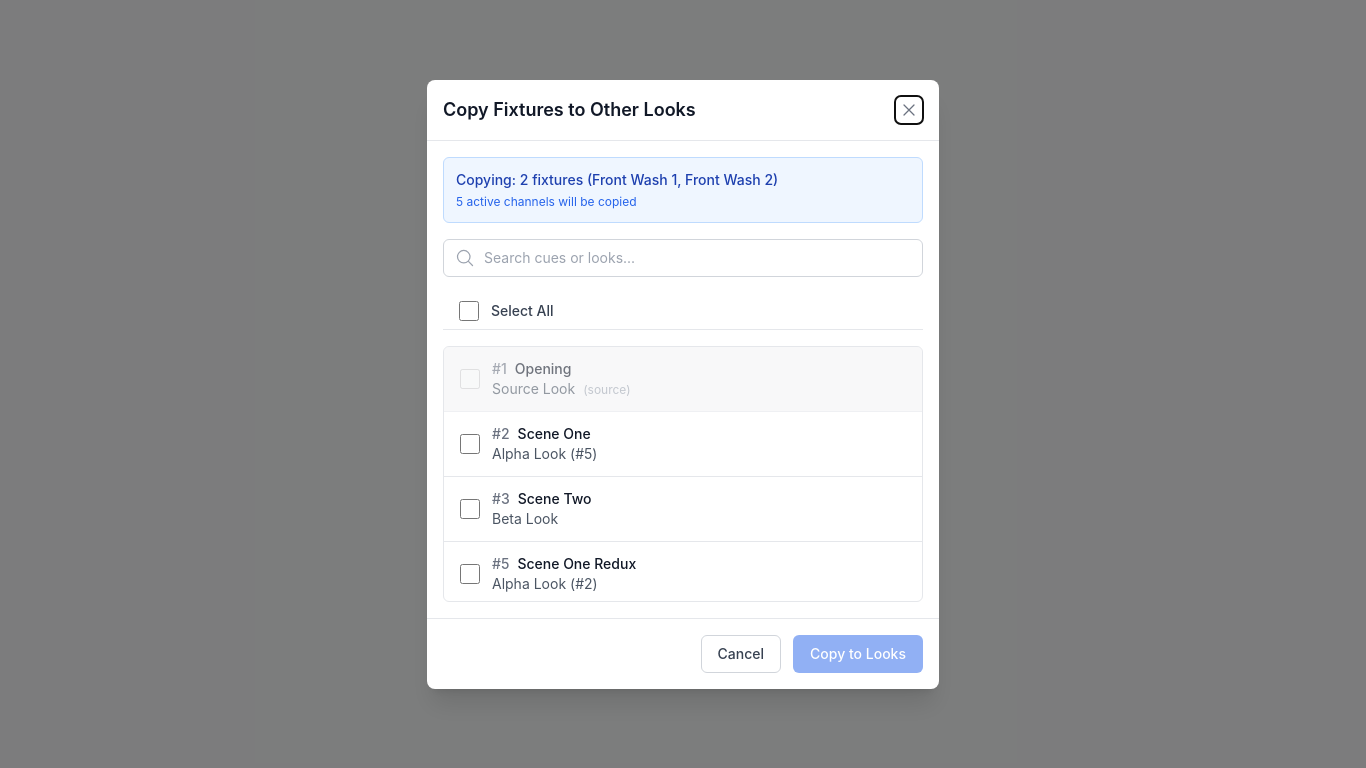
CopyFixturesToLooksModal › selection behavior › shows affected cue count in cue-centric mode
# Select Alpha Look (used by cues 2 and 5)
Click the text "Scene One" at point(554, 434), box top-left (518, 424), bottom-right (591, 444)
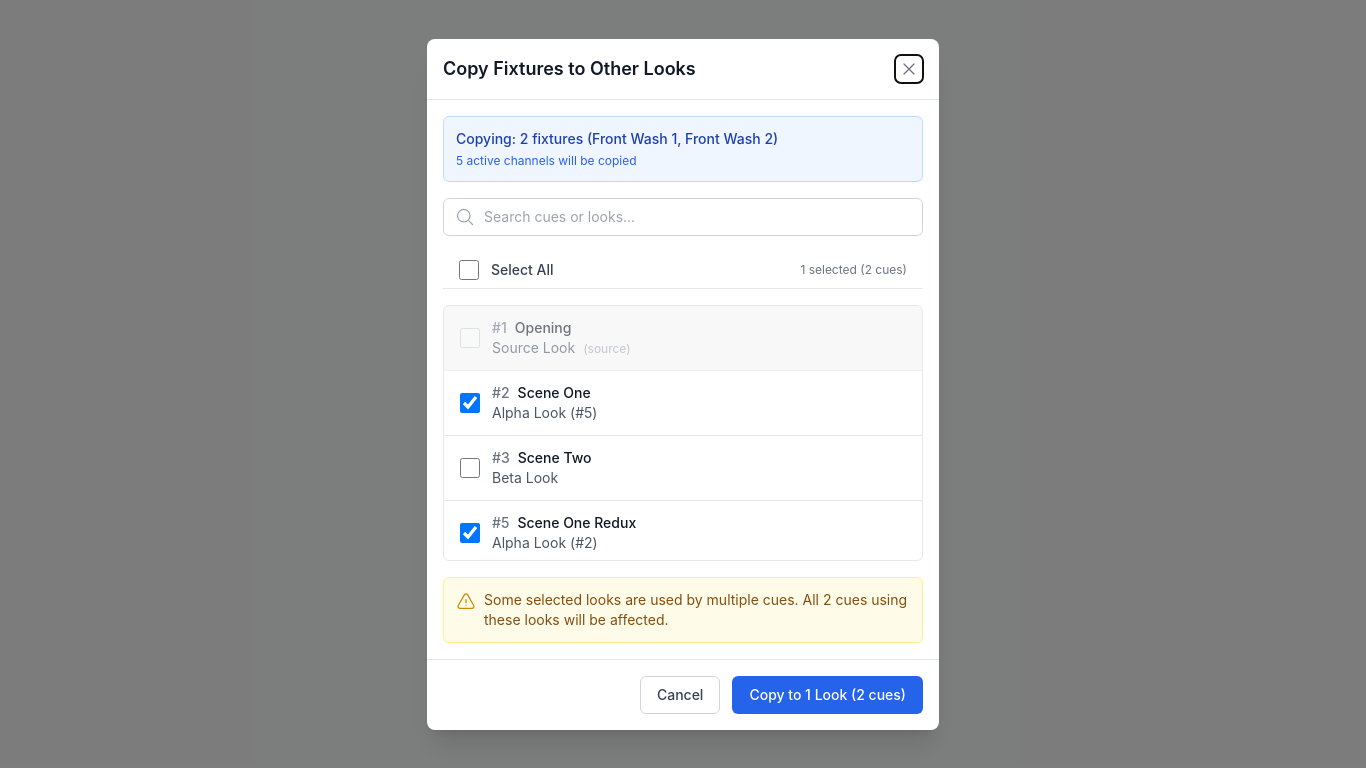
Expected: the button "Copy to 1 Look (2 cues)" is shown, top-left (732, 676), bottom-right (923, 714)
